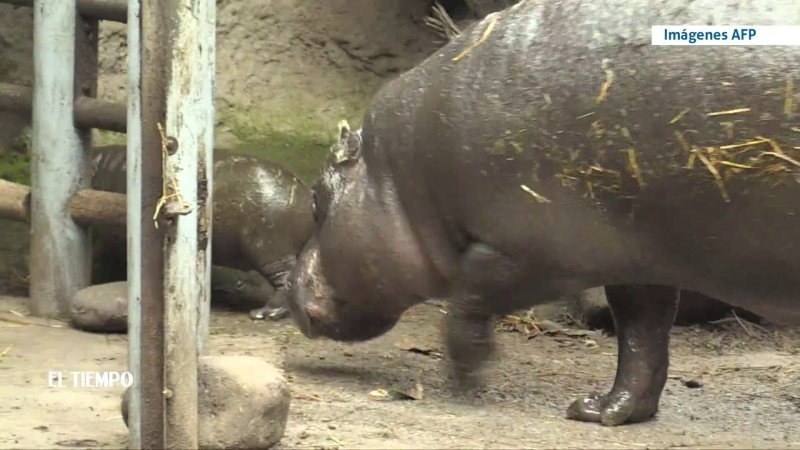hipopotamo: (289, 1, 800, 430), (25, 133, 316, 338)
